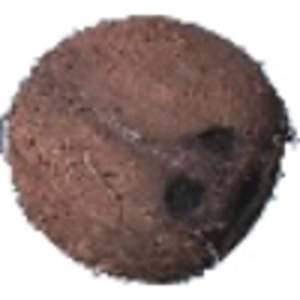coco: (1, 15, 300, 284)
